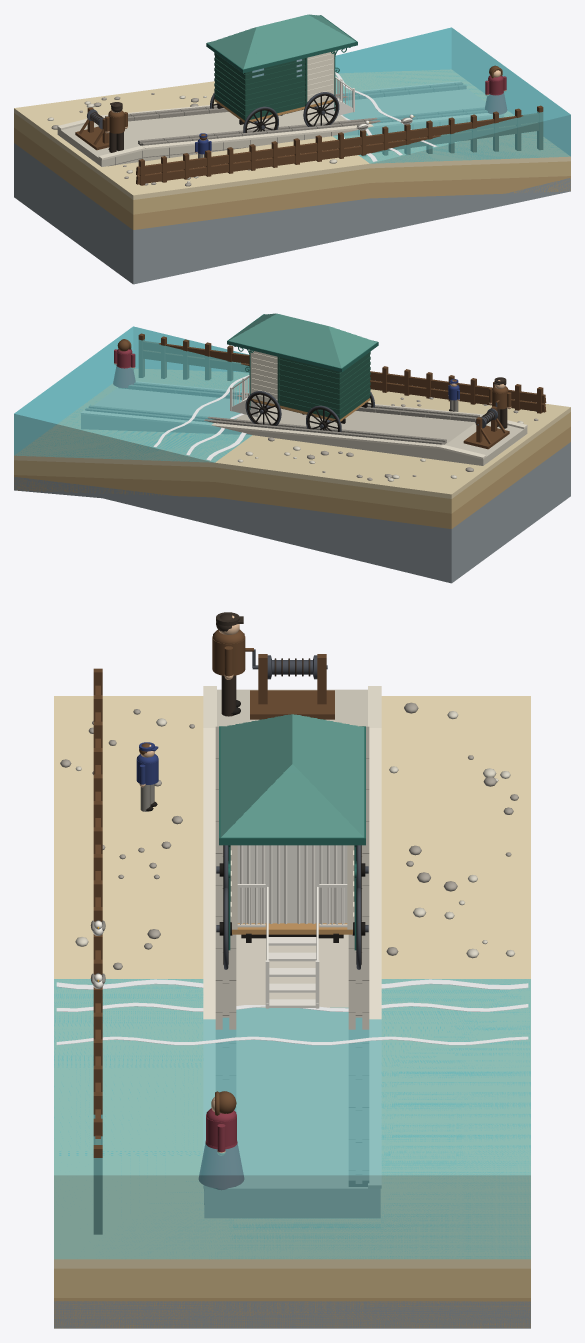
The model's file is osborne.glb.
The picture shows the model from 3 angles, top to bottom: view 1: azimuth 30°, elevation 25°; view 2: azimuth 150°, elevation 25°; view 3: azimuth 270°, elevation 25°; orthographic projection. The views are drawn at different scales.
Visible parts, largest first — view 1: m_part_beach__clay, m_part_beach__sea, m_part_beach__sand, m_part_beach__darkwood, m_part_beach__wetsand, m_part_winch__stone_ink, m_part_beach__sand2, m_part_roof__roofc_ink, m_part_winch__granite, m_part_winch__caen, m_part_room_near__green, m_part_room_near__green_ink (+12 smaller); view 2: m_part_beach__sea, m_part_beach__sand, m_part_beach__clay, m_part_winch__stone_ink, m_part_beach__sand2, m_part_beach__wetsand, m_part_beach__darkwood, m_part_roof__roofc_ink, m_part_winch__granite, m_part_winch__caen, m_part_room_far__green, m_part_room_far__green_ink (+13 smaller); view 3: m_part_beach__sand, m_part_beach__sea, m_part_winch__stone_ink, m_part_roof__roofc_ink, m_part_beach__sand2, m_part_beach__clay, m_part_winch__caen, m_part_winch__granite, m_part_beach__wetsand, m_part_beach__darkwood, m_part_beach__foam, m_curtain_l__white (+13 smaller).
Boxes of the visible parts, box(x1,y1,x2,y2) form: m_part_beach__clay: box(14, 143, 570, 284); m_part_beach__sea: box(333, 27, 570, 163); m_part_beach__sand: box(14, 69, 570, 199); m_part_beach__darkwood: box(136, 105, 543, 185); m_part_beach__wetsand: box(14, 127, 570, 229); m_part_winch__stone_ink: box(57, 89, 503, 166); m_part_beach__sand2: box(14, 113, 570, 214); m_part_roof__roofc_ink: box(207, 14, 356, 69); m_part_winch__granite: box(105, 82, 487, 145); m_part_winch__caen: box(57, 81, 503, 160); m_part_room_near__green: box(245, 60, 305, 118); m_part_room_near__green_ink: box(245, 58, 307, 119); m_part_beach__sea: box(14, 326, 251, 462); m_part_beach__sand: box(14, 369, 570, 498); m_part_beach__clay: box(14, 442, 570, 583); m_part_winch__stone_ink: box(81, 388, 527, 465); m_part_beach__sand2: box(14, 412, 570, 513); m_part_beach__wetsand: box(14, 426, 570, 528); m_part_beach__darkwood: box(138, 333, 546, 413); m_part_roof__roofc_ink: box(228, 313, 377, 368); m_part_winch__granite: box(85, 382, 479, 444); m_part_winch__caen: box(81, 381, 527, 459); m_part_room_far__green: box(279, 359, 339, 417); m_part_room_far__green_ink: box(277, 357, 340, 419); m_part_beach__sand: box(54, 696, 530, 1268); m_part_beach__sea: box(54, 979, 530, 1259); m_part_winch__stone_ink: box(204, 689, 380, 1217); m_part_roof__roofc_ink: box(220, 714, 364, 837); m_part_beach__sand2: box(54, 1268, 530, 1297); m_part_beach__clay: box(54, 1301, 530, 1328); m_part_winch__caen: box(203, 686, 381, 1188); m_part_winch__granite: box(215, 726, 369, 1186); m_part_beach__wetsand: box(54, 1298, 530, 1328); m_part_beach__darkwood: box(93, 668, 102, 1234); m_part_beach__foam: box(56, 979, 528, 1045); m_curtain_l__white: box(237, 845, 292, 923).
Bounding box in the file's own units: 17.8 × 7.1 × 8.4.
